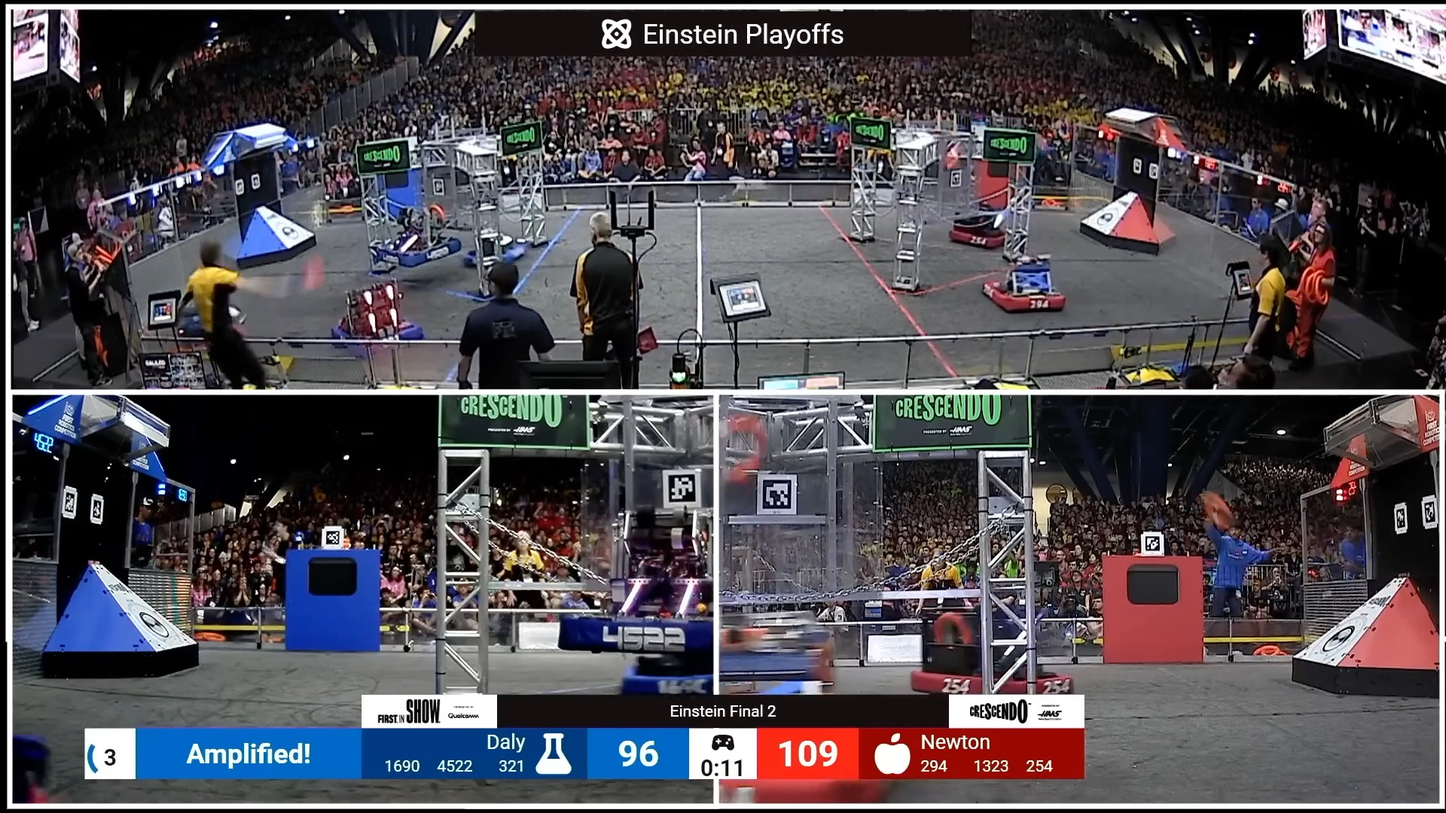bumpers: (902, 656, 1089, 705), (560, 614, 740, 661), (978, 270, 1076, 319), (363, 232, 471, 276), (324, 320, 425, 350), (456, 242, 535, 271), (946, 224, 1018, 250)
